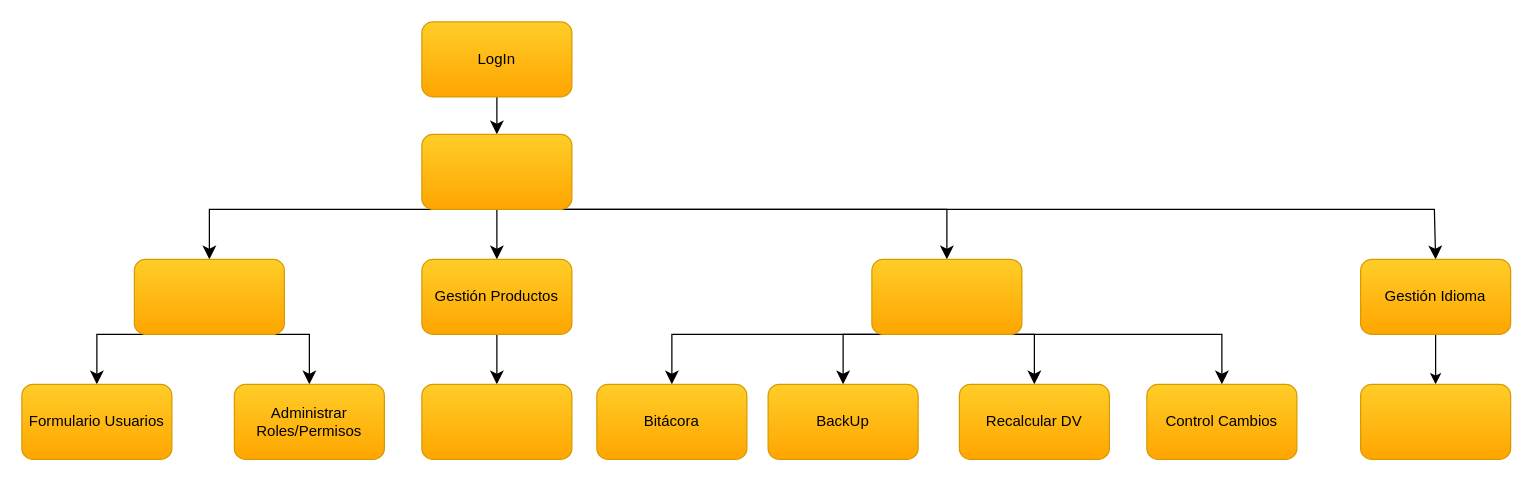
Some shapes in this 1533 by 481 pixel diagram are drawn without their labels. The centre of each missing label's shape, as x and y in pixels:
Administrar Idiomas: point 1435,421
Auditoria: point 946,296
Formulario Productos: point 496,421
Gestión Usuarios: point 208,296
Menú: point 496,171
